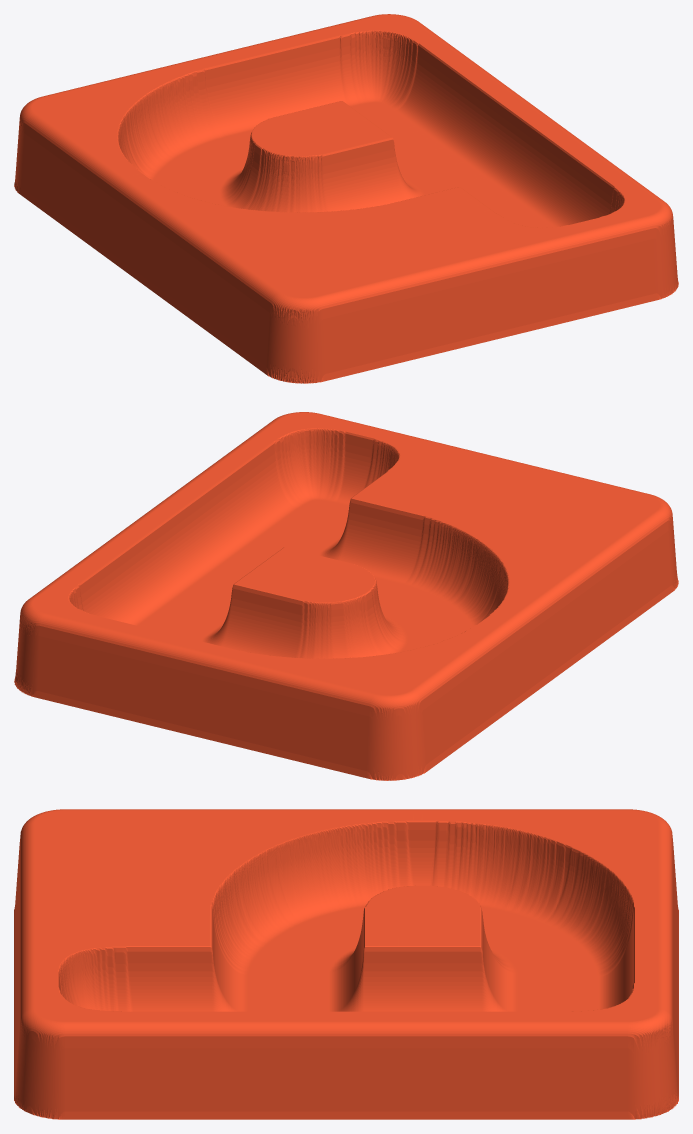
File: mold.glb
3 renders of one model, top to bottom at view 1: azimuth 30°, elevation 25°; view 2: azimuth 150°, elevation 25°; view 3: azimuth 270°, elevation 25°, orthographic. The views are drawn at different scales.
Visible parts, largest first — view 1: geometry_0; view 2: geometry_0; view 3: geometry_0.
Boxes of the visible parts, left/top/right/bottom form: geometry_0: left=14, top=14, right=678, bottom=383; geometry_0: left=14, top=412, right=678, bottom=780; geometry_0: left=14, top=809, right=678, bottom=1119.
Bounding box in the file's own units: 0.0956 × 0.0175 × 0.1178.
